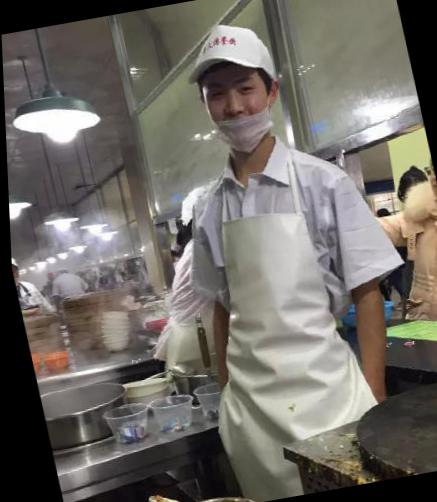WRONG: (198, 66, 282, 149)
